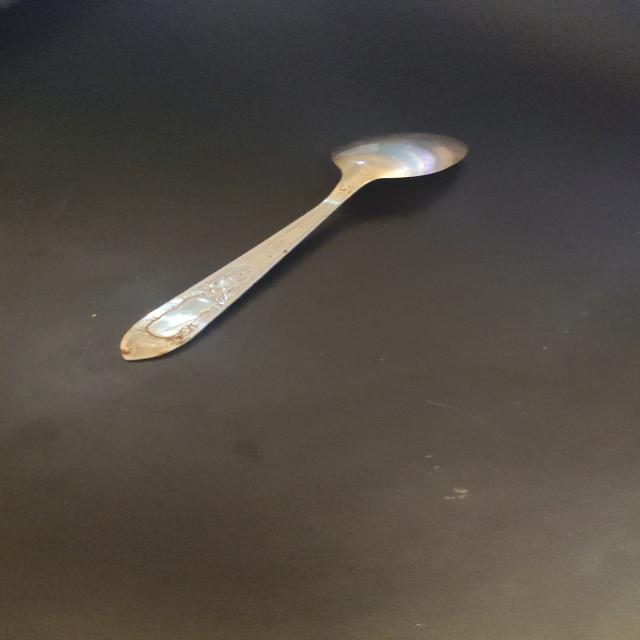plastic utensil: (120, 134, 467, 360)
